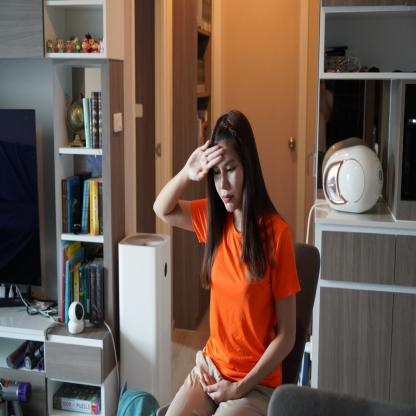Sick: (176, 136, 228, 186)
